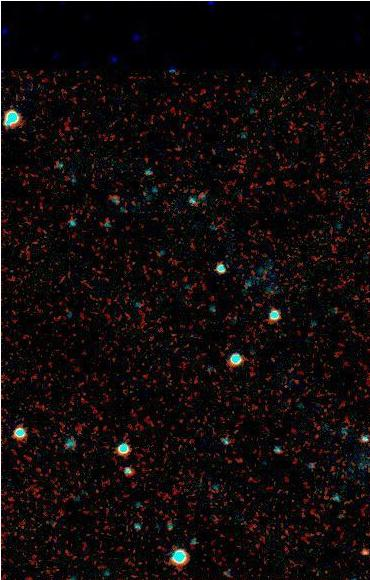star: (346, 534, 370, 564)
